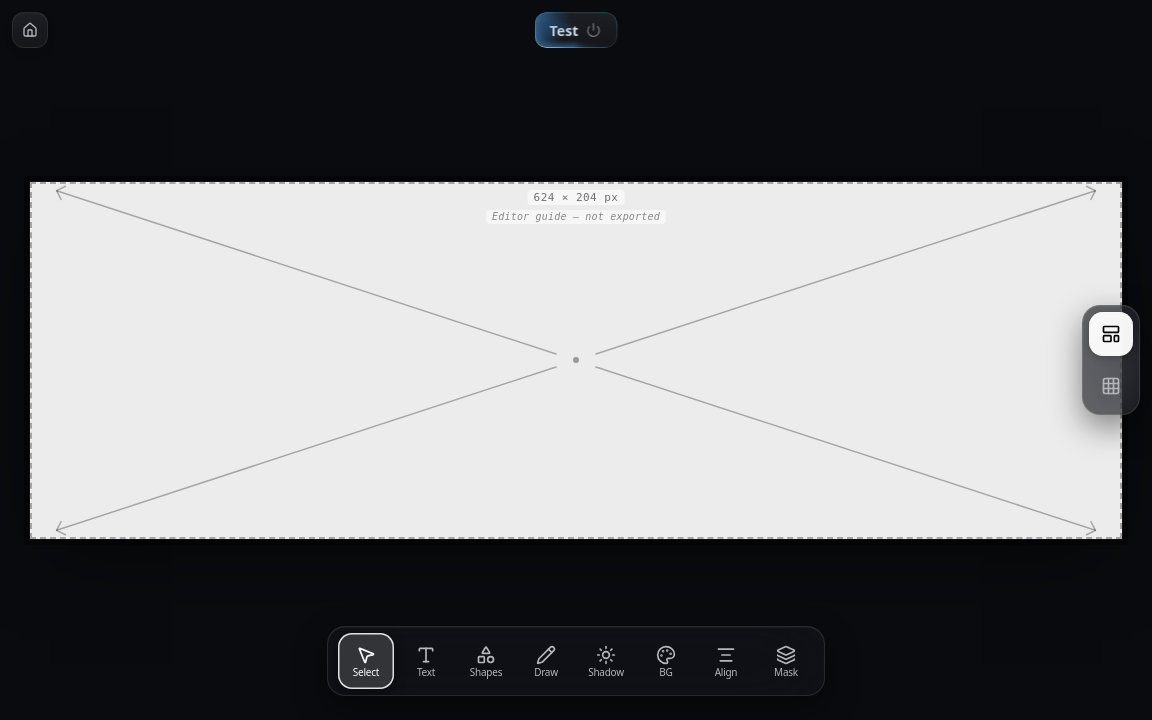
it: FaceplateEditor wiring › eraser toggle exists in Draw peel after switching to Draw tool
Click the button "Draw". click: x=546, y=661
box: x1=518 y1=633 x2=574 y2=689
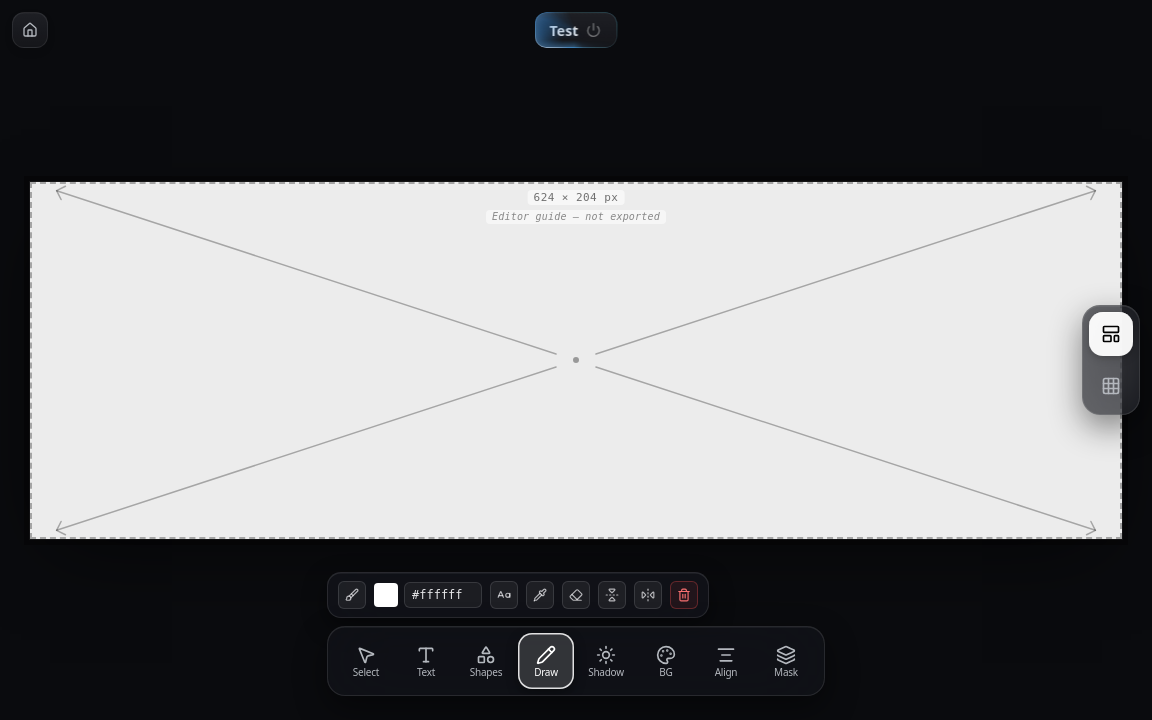
Result: the button with test id "brush-erase-toggle" is shown at x1=562 y1=581 x2=590 y2=609
